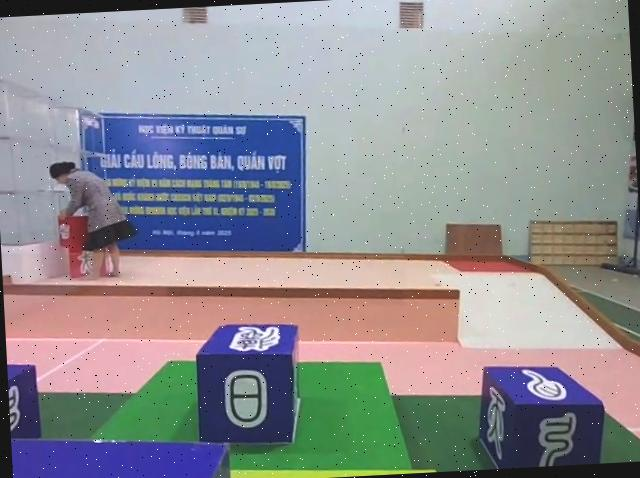R2 Fake Blue: (191, 324, 305, 454), (473, 362, 606, 471), (6, 362, 39, 446)
